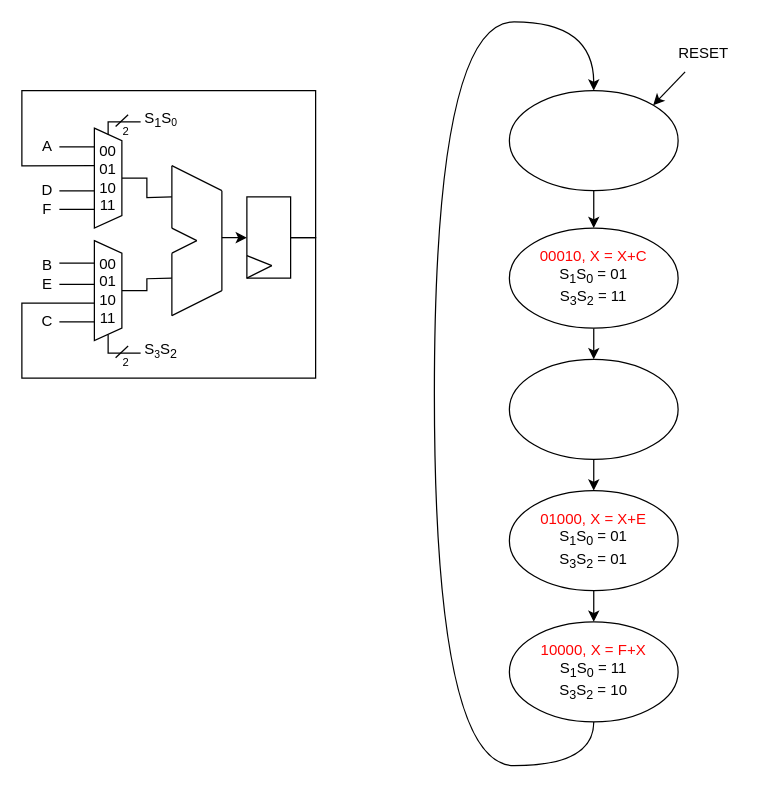
Some shapes in this 763 by 788 pixel diagram are drawn without their labels. The box of each missing label's shape, as (x1, y1, x2, y2) in pixels:
00001, X = A+B S 1 S 0 = 00 S 3 S 2 = 00: (508, 89, 678, 191)
00100, X = D+X S 1 S 0 = 10 S 3 S 2 = 10: (508, 358, 678, 459)
